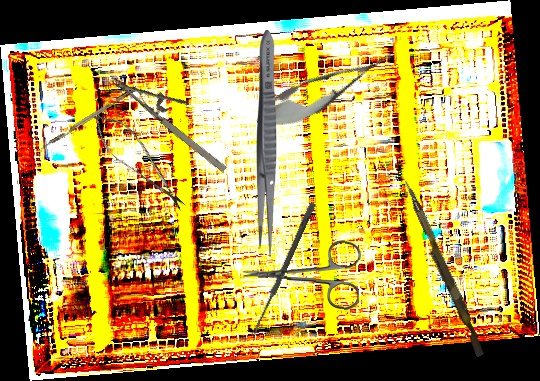Chopper: (34, 86, 141, 157)
Dressing Forceps: (256, 30, 278, 257)
Iris Scissors: (241, 236, 362, 311)
Micro Scissor: (249, 38, 401, 141), (82, 102, 196, 219)
Needle Holder: (109, 54, 243, 176)
Pusher: (396, 179, 490, 358)
Surgical Spoon: (250, 201, 316, 338)
